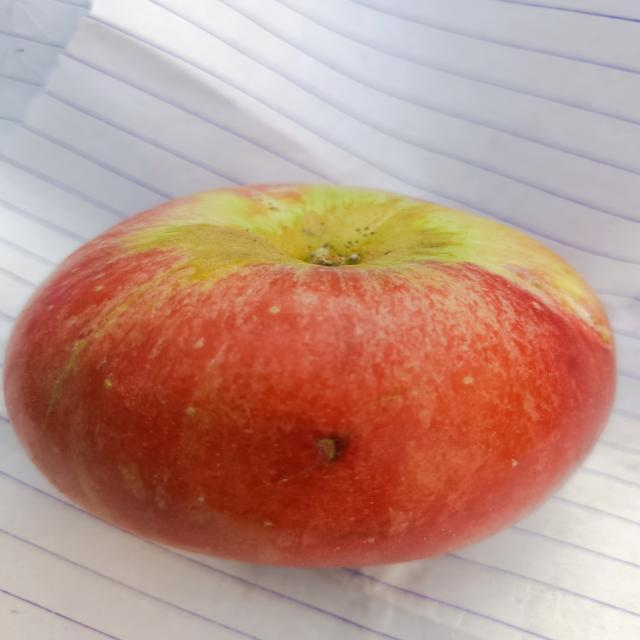Fresh Apple: (5, 187, 619, 567)
